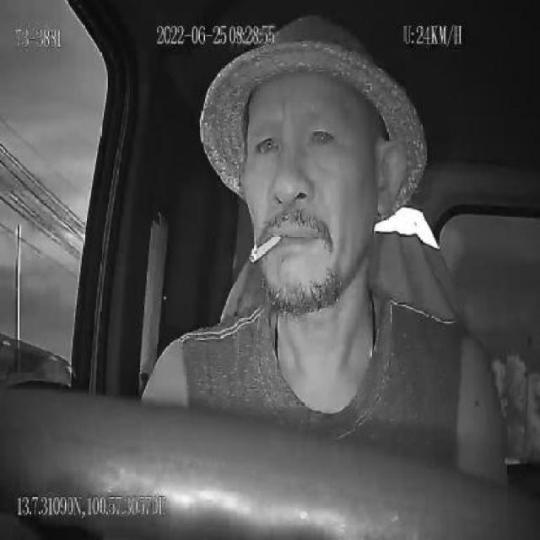smoking: (250, 230, 280, 264)
